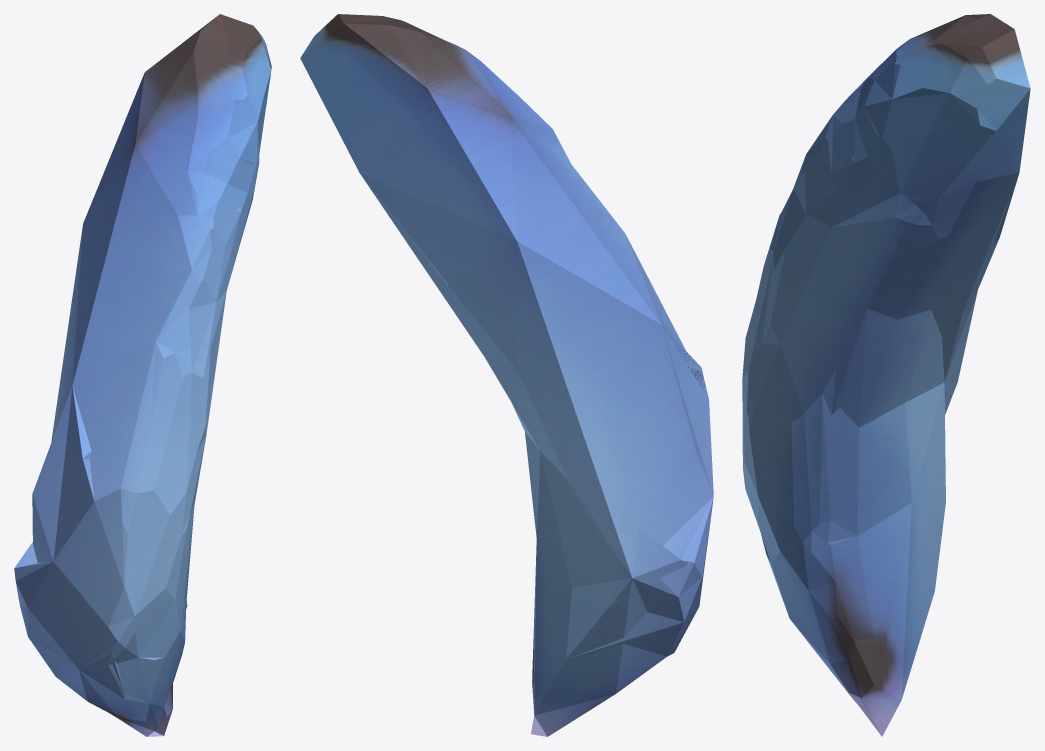
The model's file is banana.obj.
3 renders of one model, left to right at view 1: azimuth 30°, elevation 25°; view 2: azimuth 150°, elevation 25°; view 3: azimuth 270°, elevation 25°, orthographic. The views are drawn at different scales.
Parts seen in each view (by area): view 1: Nontextured; view 2: Nontextured; view 3: Nontextured.
Boxes of the visible parts, box(x1,y1,x2,y2) form: Nontextured: box(14, 14, 271, 736); Nontextured: box(300, 14, 713, 736); Nontextured: box(742, 14, 1030, 736).
Bounding box in the file's own units: 0.0838 × 0.1771 × 0.0599.
1 material, 1 textured.
